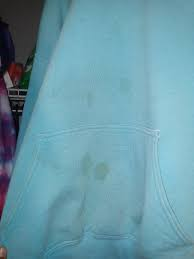lipstick: (80, 152, 95, 175), (95, 164, 109, 179), (119, 76, 130, 93), (86, 93, 94, 108)
